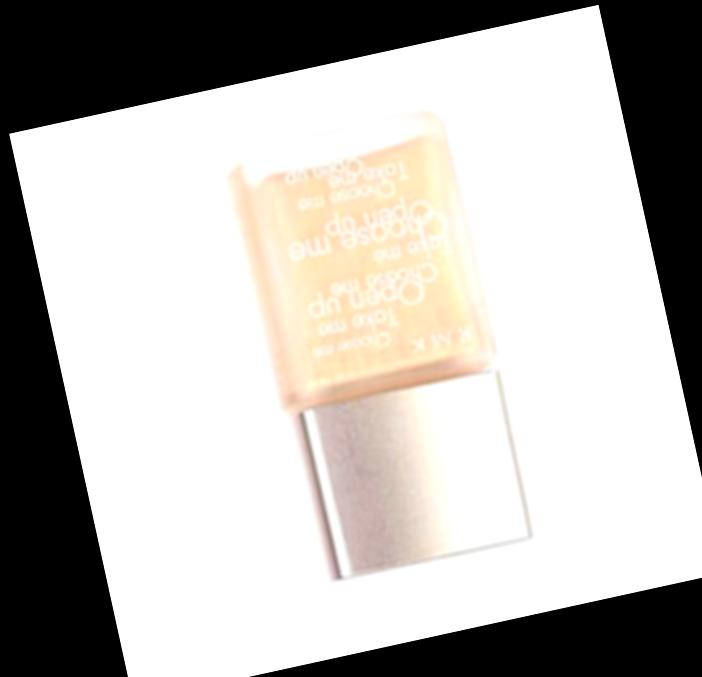cosmetic: (216, 103, 542, 589)
